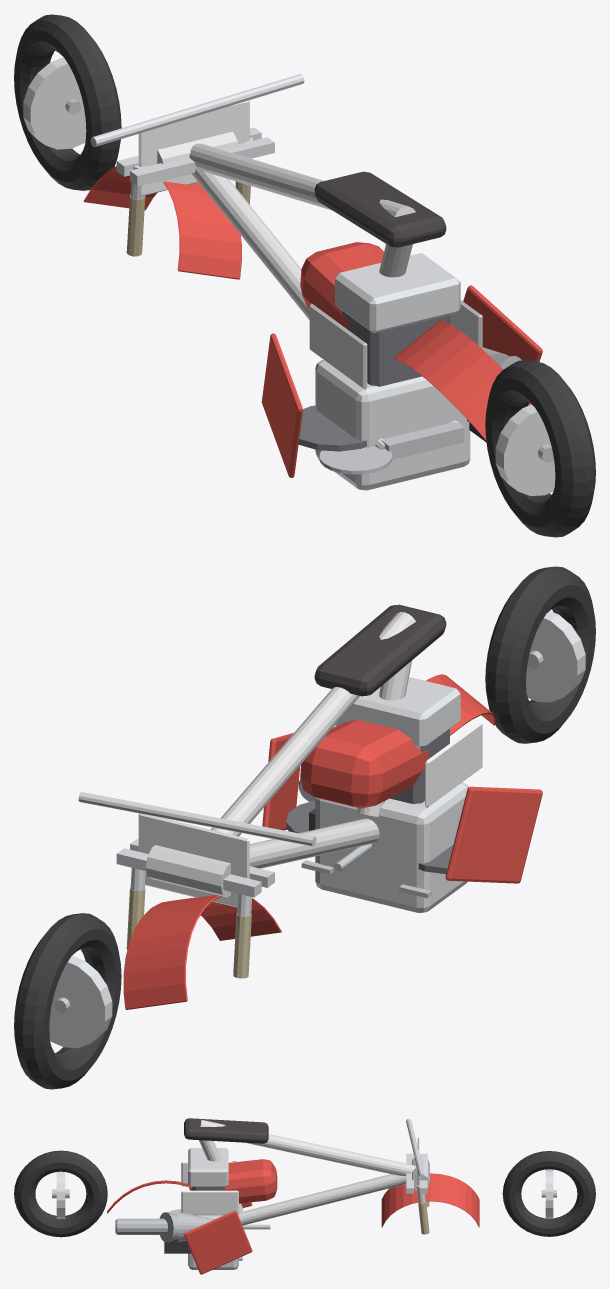
3 views of the same model, one above another, from view 1: azimuth 30°, elevation 25°; view 2: azimuth 150°, elevation 25°; view 3: azimuth 270°, elevation 25° (orthographic). The views are drawn at different scales.
Visible parts, largest first — view 1: b_rear_wheel_tire, b_engine_case, b_front_wheel_tire, b_engine_head, b_front_fender, b_rear_fender, b_seat, b_front_wheel_rim, b_frame_down, b_frame_spine, b_rear_wheel_rim, b_front_plate (+14 smaller); view 2: b_engine_case, b_rear_wheel_tire, b_front_wheel_tire, b_front_fender, b_tank, b_shroud_-1, b_seat, b_frame_spine, b_engine_head, b_front_plate, b_front_wheel_rim, b_rear_wheel_rim (+10 smaller); view 3: b_rear_wheel_tire, b_front_wheel_tire, b_shroud_1, b_frame_down, b_front_fender, b_frame_spine, b_tank, b_seat, b_sideplate_1, b_engine_head, b_silencer, b_pipe_c2 (+11 smaller).
Boxes of the visible parts, <box> form: b_rear_wheel_tire: <box>485,360,595,537</box>; b_engine_case: <box>315,360,470,490</box>; b_front_wheel_tire: <box>14,14,121,190</box>; b_engine_head: <box>335,253,460,333</box>; b_front_fender: <box>83,166,241,279</box>; b_rear_fender: <box>393,320,531,440</box>; b_seat: <box>314,171,446,247</box>; b_front_wheel_rim: <box>23,57,86,149</box>; b_frame_down: <box>191,167,309,319</box>; b_frame_spine: <box>189,143,415,217</box>; b_rear_wheel_rim: <box>495,404,555,495</box>; b_front_plate: <box>138,100,249,195</box>; b_engine_case: <box>315,782,468,912</box>; b_rear_wheel_tire: <box>485,566,595,743</box>; b_front_wheel_tire: <box>14,913,121,1089</box>; b_front_fender: <box>123,895,281,1009</box>; b_tank: <box>300,720,428,808</box>; b_shroud_-1: <box>445,786,542,883</box>; b_seat: <box>314,604,446,696</box>; b_frame_spine: <box>211,612,415,836</box>; b_engine_head: <box>336,677,460,748</box>; b_front_plate: <box>138,813,249,907</box>; b_front_wheel_rim: <box>49,955,112,1048</box>; b_rear_wheel_rim: <box>526,611,585,702</box>; b_rear_wheel_tire: <box>14,1150,107,1237</box>; b_front_wheel_tire: <box>502,1151,595,1236</box>; b_shroud_1: <box>184,1210,252,1274</box>; b_frame_down: <box>239,1174,406,1225</box>; b_front_fender: <box>381,1173,479,1227</box>; b_frame_spine: <box>200,1119,415,1176</box>; b_tank: <box>217,1159,277,1203</box>; b_seat: <box>184,1118,268,1143</box>; b_sideplate_1: <box>181,1190,238,1215</box>; b_engine_head: <box>188,1148,228,1186</box>; b_silencer: <box>115,1218,215,1234</box>; b_pipe_c2: <box>178,1212,213,1241</box>.
Size of the model in its own units: 0.862 by 0.8939 by 3.43.
